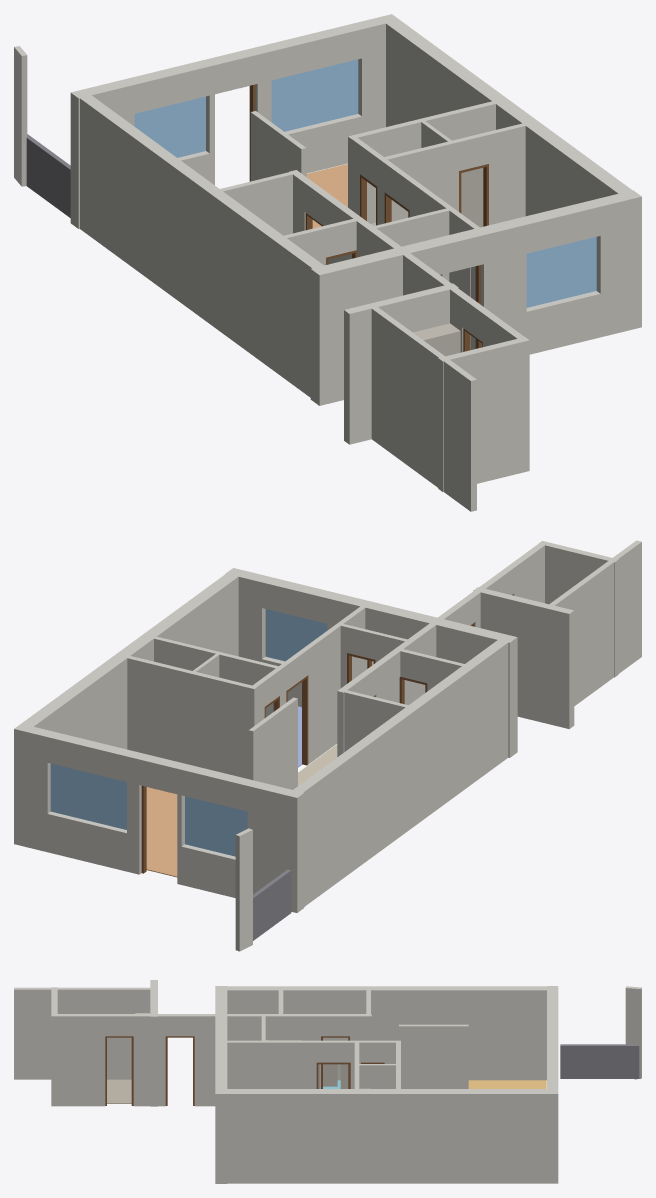
3 renders of one model, top to bottom at view 1: azimuth 30°, elevation 25°; view 2: azimuth 150°, elevation 25°; view 3: azimuth 270°, elevation 25°, orthographic. The views are drawn at different scales.
Parts seen in each view (by area): view 1: walls, window_3, window_0, window_1, railings, furniture_0_closet, floor_1_Living_Room, furniture_2_closet; view 2: walls, window_3, window_1, floor_1_Living_Room, window_0, railings, door_6; view 3: walls, railings, floor_0_Kitchen, floor_9_Storage, door_11, door_5, furniture_6_appliance.
Part boxes in pixels (x1,y1,x2,y2): walls: [14, 14, 641, 511]; window_3: [271, 59, 358, 131]; window_0: [526, 237, 596, 307]; window_1: [134, 96, 205, 157]; railings: [26, 134, 70, 217]; furniture_0_closet: [461, 168, 483, 227]; floor_1_Living_Room: [306, 164, 347, 228]; furniture_2_closet: [413, 323, 460, 356]; walls: [14, 540, 641, 951]; window_3: [50, 763, 126, 829]; window_1: [185, 796, 247, 856]; floor_1_Living_Room: [146, 787, 177, 877]; window_0: [265, 609, 327, 661]; railings: [253, 869, 291, 940]; door_6: [286, 675, 308, 765]; walls: [14, 980, 641, 1183]; railings: [560, 1044, 639, 1079]; floor_0_Kitchen: [468, 1080, 546, 1088]; floor_9_Storage: [107, 1079, 131, 1103]; door_11: [165, 1036, 194, 1105]; door_5: [105, 1036, 133, 1105]; furniture_6_appliance: [323, 1064, 337, 1086].
Bounding box in the file's own units: 7.34 × 2.72 × 17.1.
